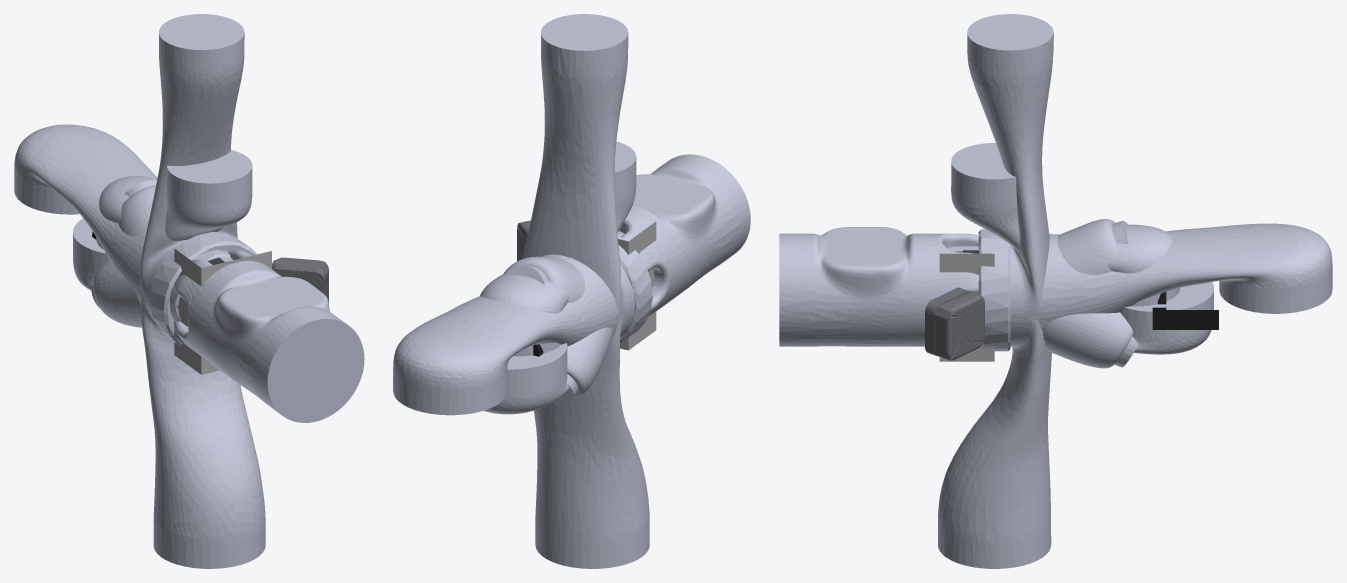
File: arm.glb
The picture shows the model from 3 angles, left to right: view 1: azimuth 30°, elevation 25°; view 2: azimuth 150°, elevation 25°; view 3: azimuth 270°, elevation 25°; orthographic projection. The views are drawn at different scales.
Parts seen in each view (by area): view 1: b4, b2, b6, b5, b8, b3, b9, b12, b7; view 2: b6, b4, b5, b2, b3, b9, b7, b12, b8; view 3: b2, b4, b5, b6, b9, b3, b12, b8, b7.
Boxes of the visible parts, left/top/right/bottom form: b4: left=140, top=249, right=265, bottom=568; b2: left=174, top=250, right=364, bottom=422; b6: left=140, top=14, right=246, bottom=312; b5: left=14, top=124, right=247, bottom=334; b8: left=165, top=150, right=252, bottom=240; b3: left=73, top=218, right=256, bottom=346; b9: left=91, top=180, right=156, bottom=327; b12: left=174, top=248, right=328, bottom=374; b7: left=96, top=176, right=230, bottom=321; b6: left=523, top=14, right=634, bottom=331; b4: left=534, top=269, right=649, bottom=568; b5: left=393, top=254, right=634, bottom=415; b2: left=617, top=154, right=750, bottom=316; b3: left=483, top=234, right=652, bottom=414; b9: left=503, top=256, right=612, bottom=403; b7: left=480, top=273, right=569, bottom=356; b12: left=517, top=220, right=656, bottom=350; b8: left=614, top=141, right=636, bottom=232; b2: left=779, top=227, right=978, bottom=346; b4: left=938, top=249, right=1051, bottom=568; b5: left=1010, top=223, right=1332, bottom=345; b6: left=967, top=14, right=1053, bottom=335; b9: left=1043, top=219, right=1218, bottom=368; b3: left=978, top=229, right=1213, bottom=354; b12: left=925, top=253, right=994, bottom=361; b8: left=951, top=143, right=1019, bottom=251; b7: left=1108, top=224, right=1179, bottom=306.
Size of the model in its own units: 0.128 by 0.4121 by 0.4028.
